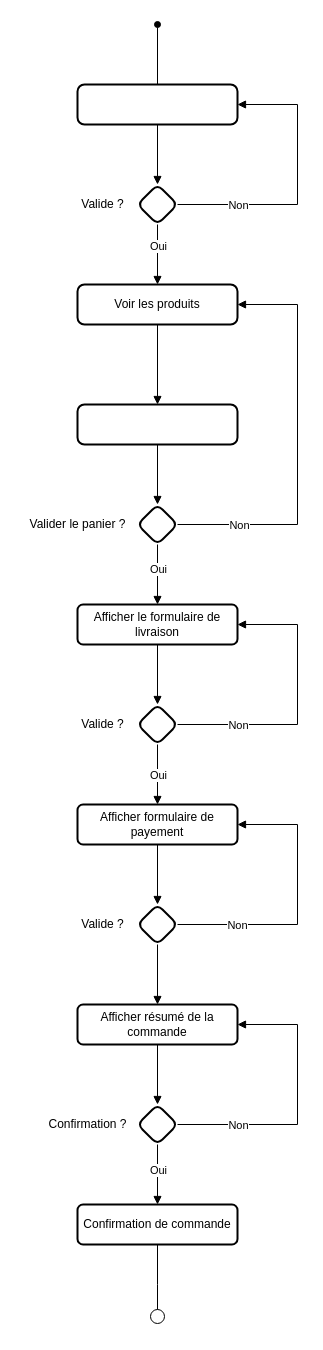
This 323x1350 diagram has some shape labels left out. The centre of each missing label's shape, as x and y in pixels:
"Ajouter un produit au panier" belongs at (x=157, y=424).
"Identification" belongs at (x=157, y=104).
